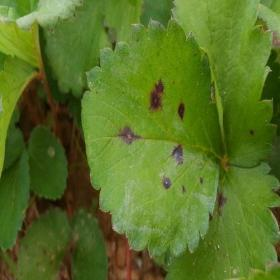Leaf Spot: (79, 16, 225, 259), (170, 0, 278, 169), (157, 162, 279, 279), (14, 207, 73, 279)
